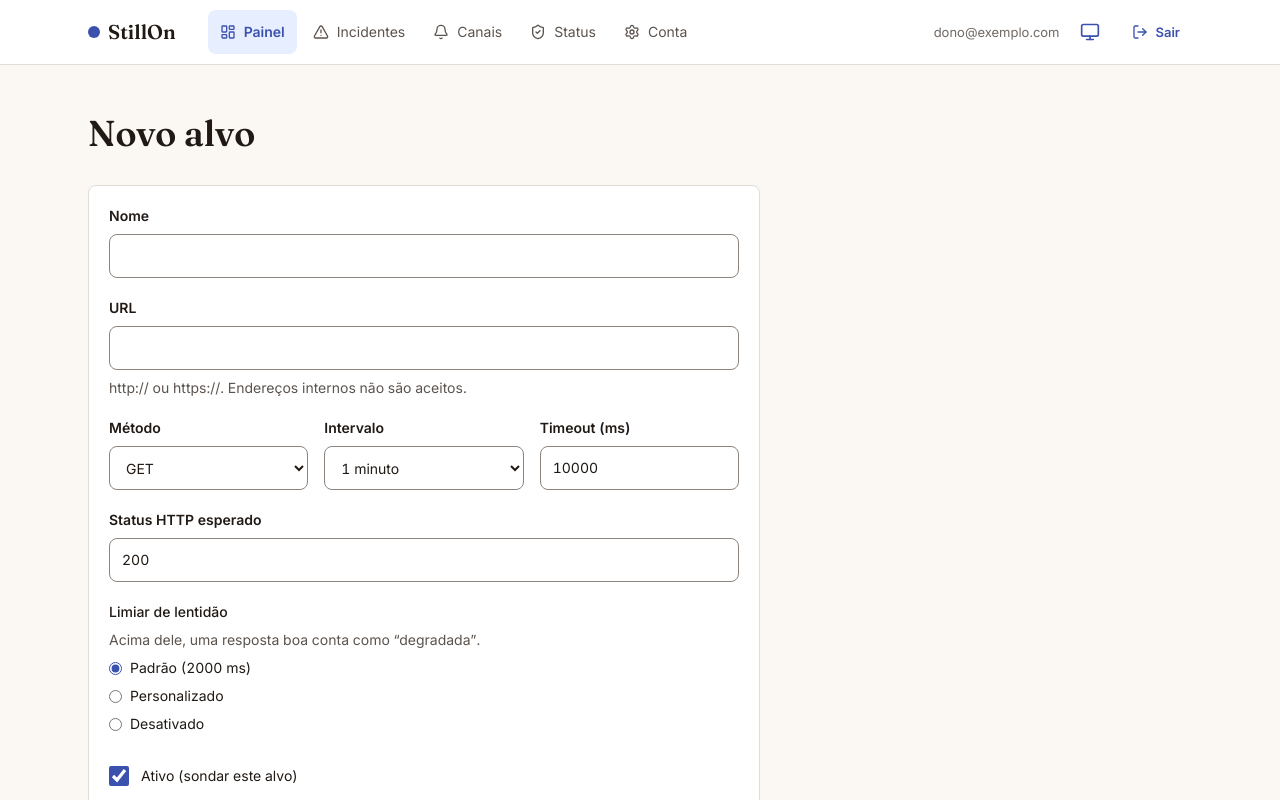
Test: cadastrar › o teto de 100 alvos (Plano 5, D24) aparece como erro do formulário
Type "Site" into the field labelled "Nome" at [424, 256], box [109,234,739,278]
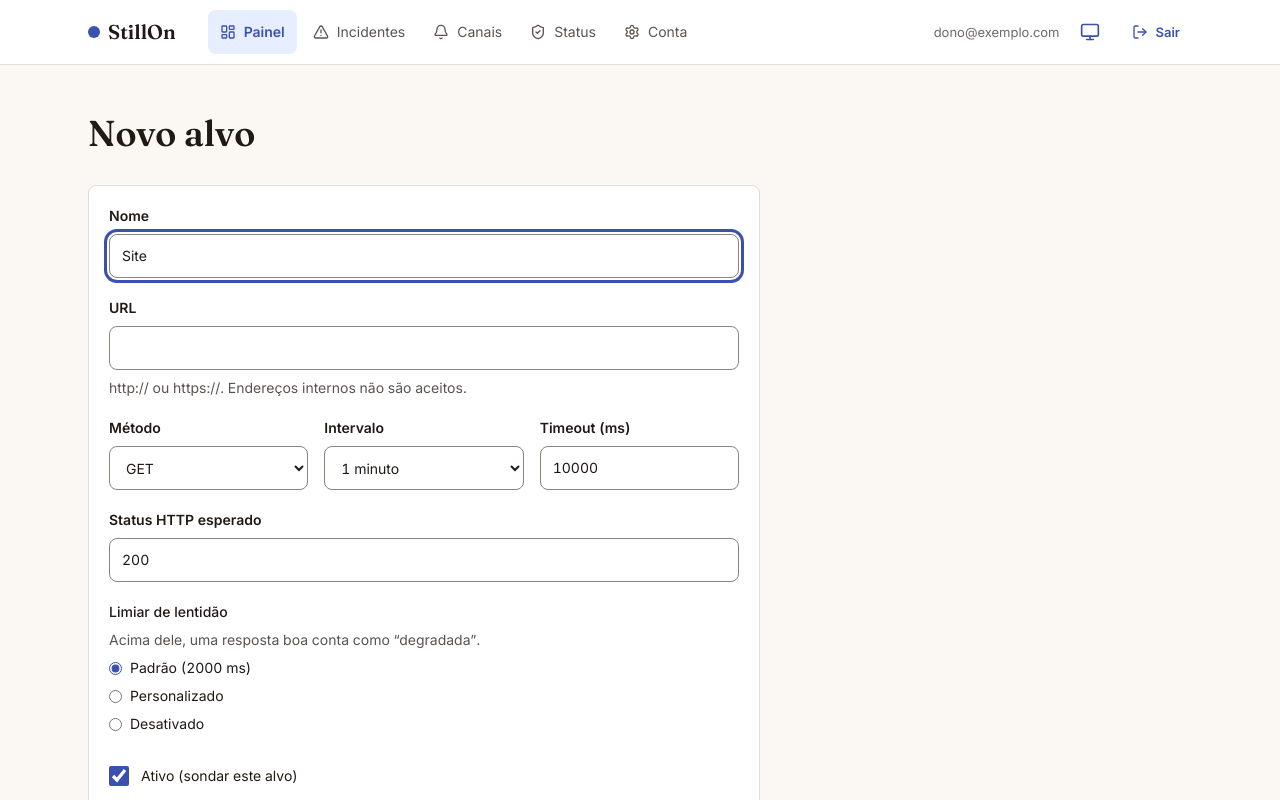
Type "https://exemplo.com" into the field labelled "URL" at [424, 348], box [109,326,739,370]
(page scrolled)
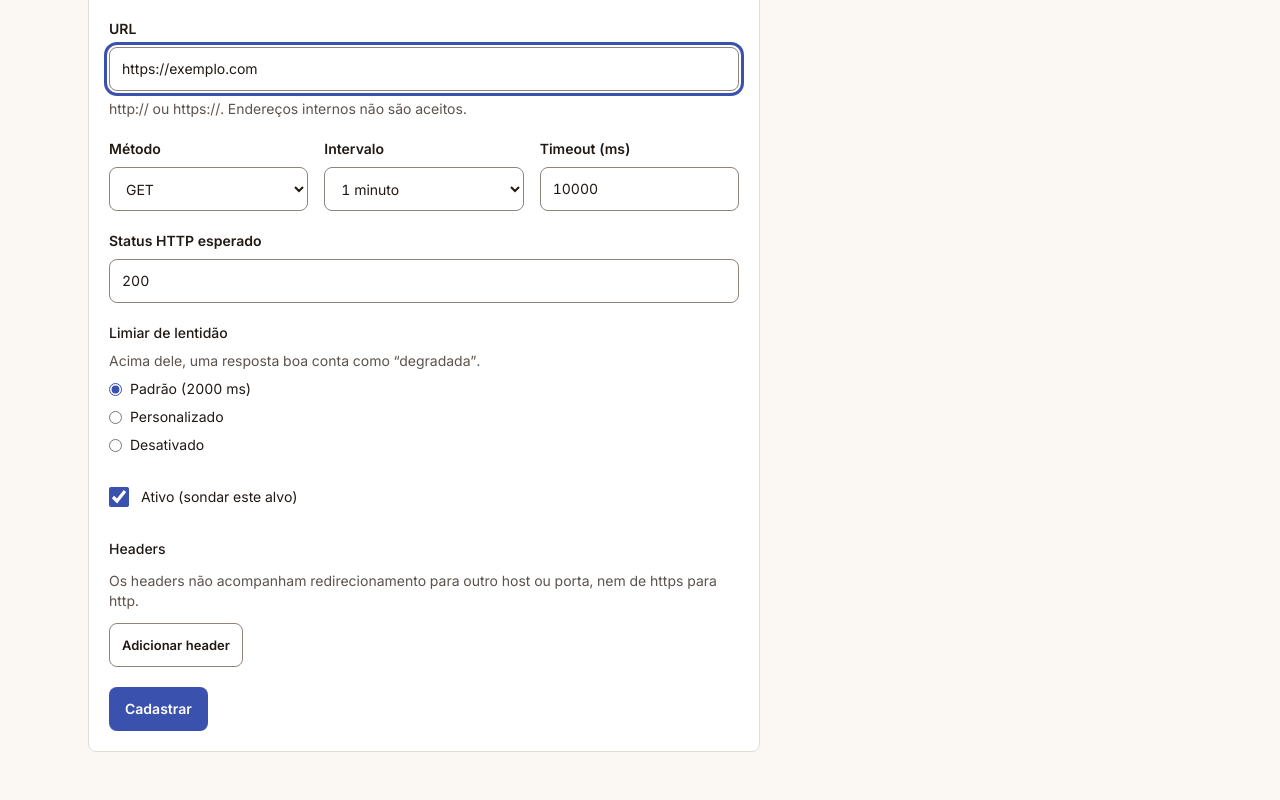
Click the button "Cadastrar" at [158, 709], box [109,687,208,731]
(page scrolled)
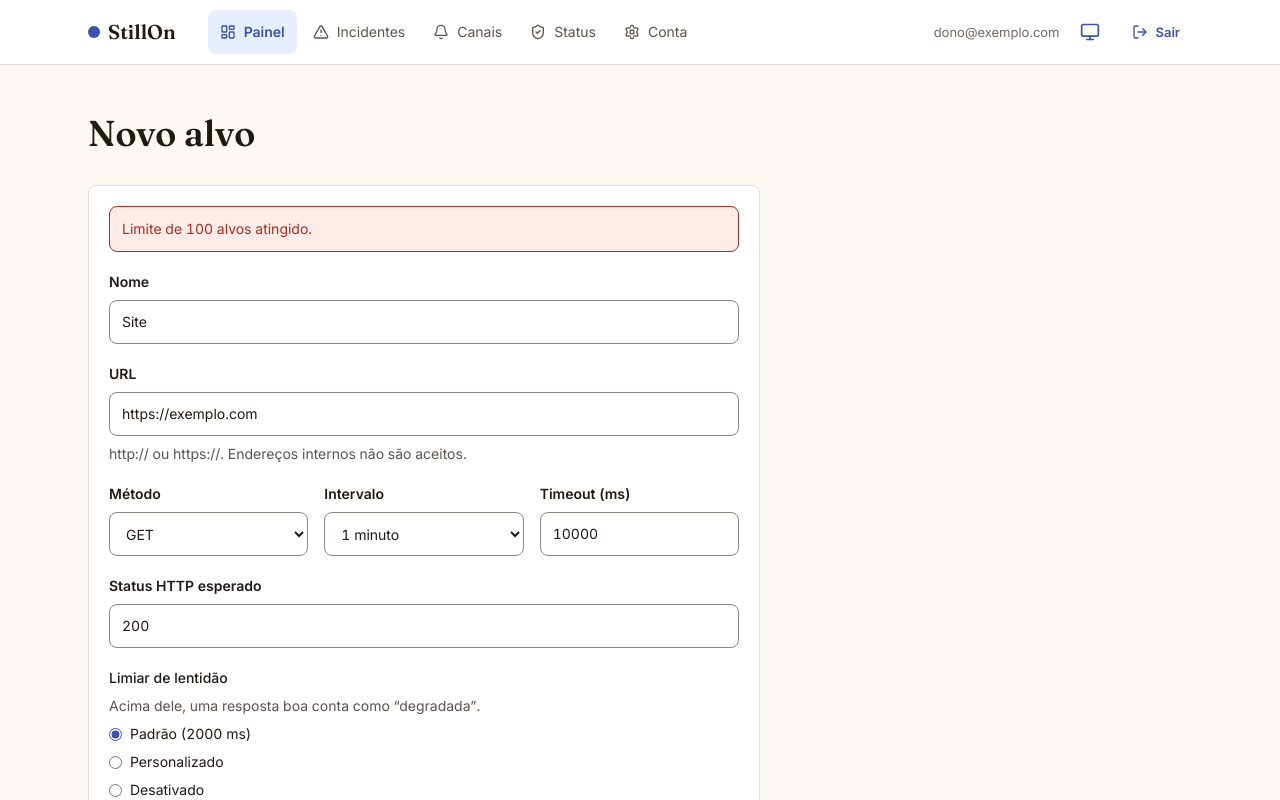
Expected: the message reads "Limite de 100 alvos atingido.", [122,220,312,237]
